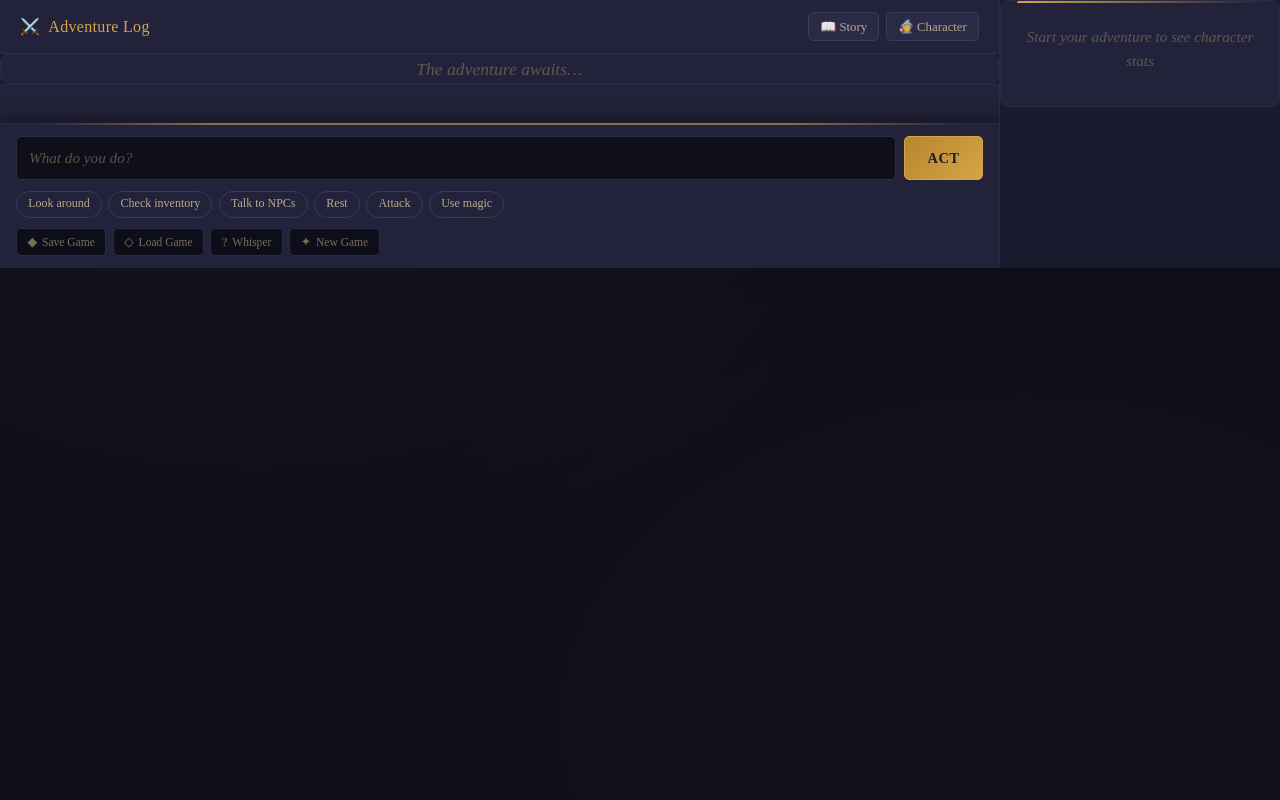
Test: GamePage — save modal › opens the Save modal when Save Game is clicked
Click the button "◆ Save Game" at (61, 242), box [16, 228, 106, 256]
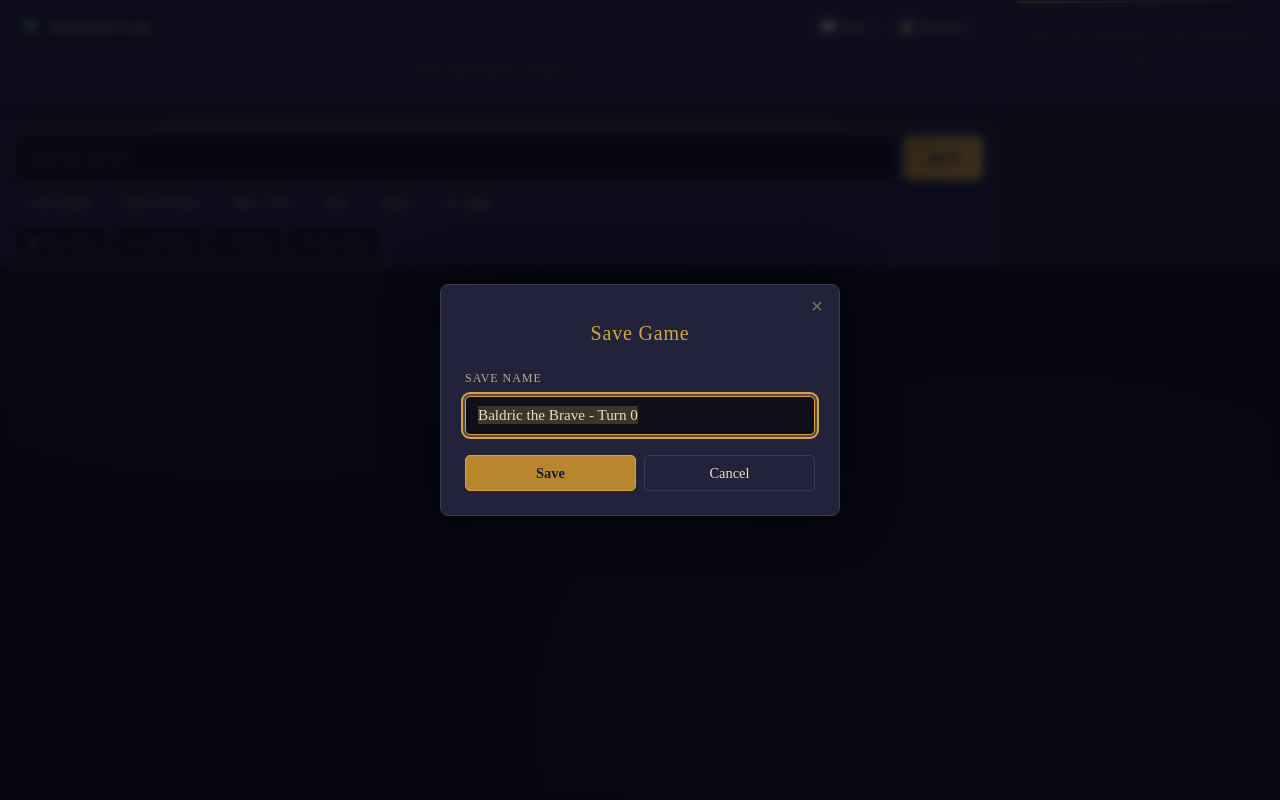
Now the dialog "✕ Save Game Save Name Save Cancel" is shown
